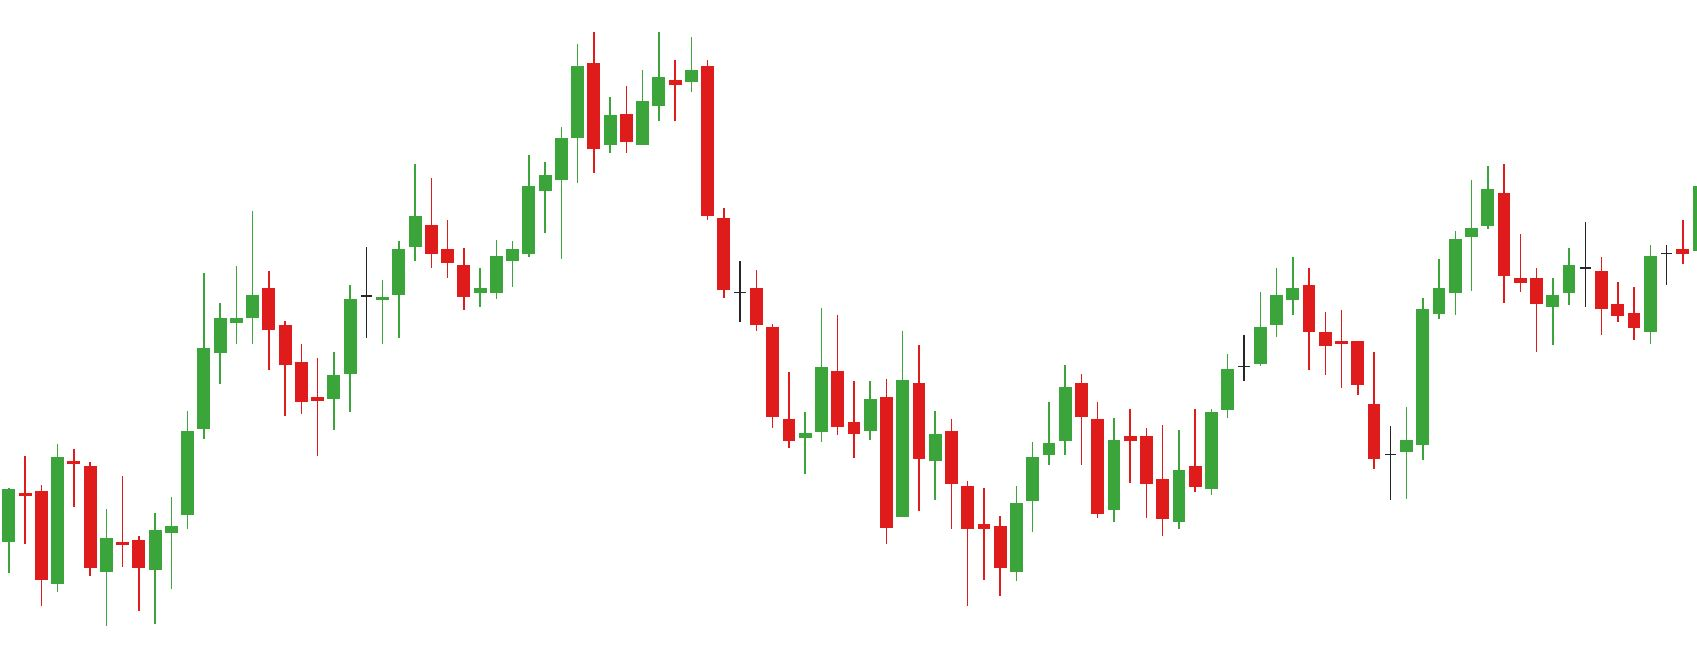buy: (30, 474, 116, 628), (1092, 431, 1190, 535)
sell: (1284, 166, 1515, 361)
